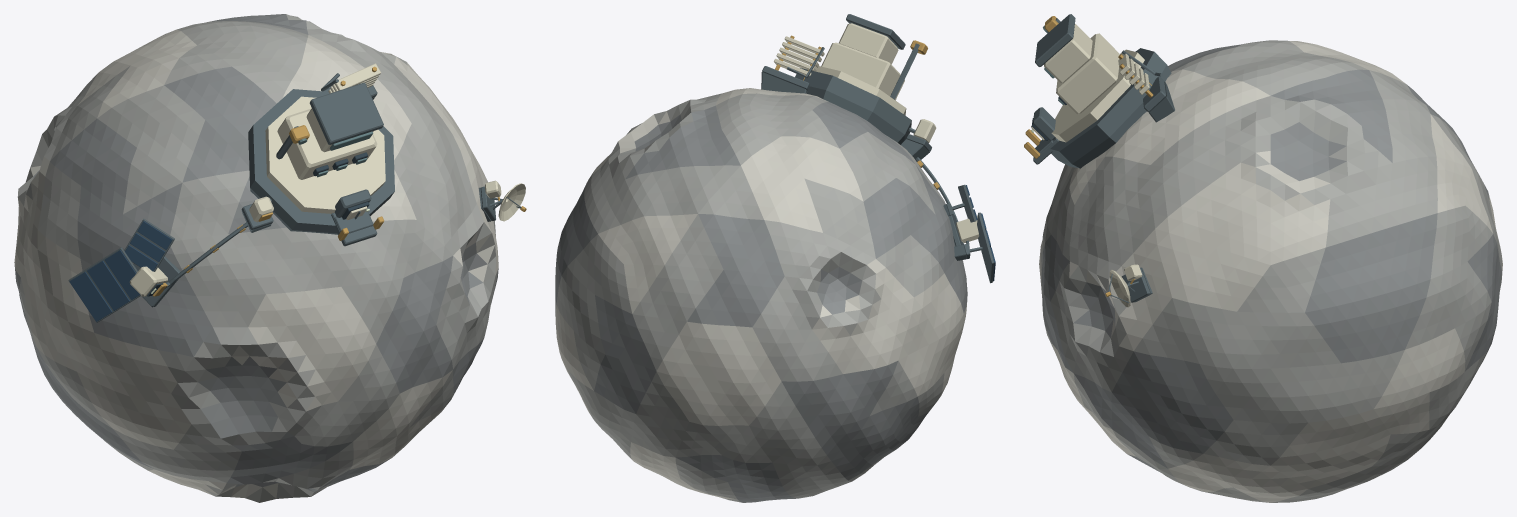
File: Moon.glb
3 renders of one model, left to right at view 1: azimuth 30°, elevation 25°; view 2: azimuth 150°, elevation 25°; view 3: azimuth 270°, elevation 25°, orthographic. The views are drawn at different scales.
Visible parts, largest first — view 1: S1_Moon • modeled surfaces; view 2: S1_Moon • modeled surfaces; view 3: S1_Moon • modeled surfaces.
Boxes of the visible parts, bbox=[...] form: S1_Moon • modeled surfaces: bbox=[14, 14, 526, 502]; S1_Moon • modeled surfaces: bbox=[555, 14, 995, 502]; S1_Moon • modeled surfaces: bbox=[1024, 14, 1502, 502].
Size of the model in its own units: 1.73 by 1.77 by 1.71.
